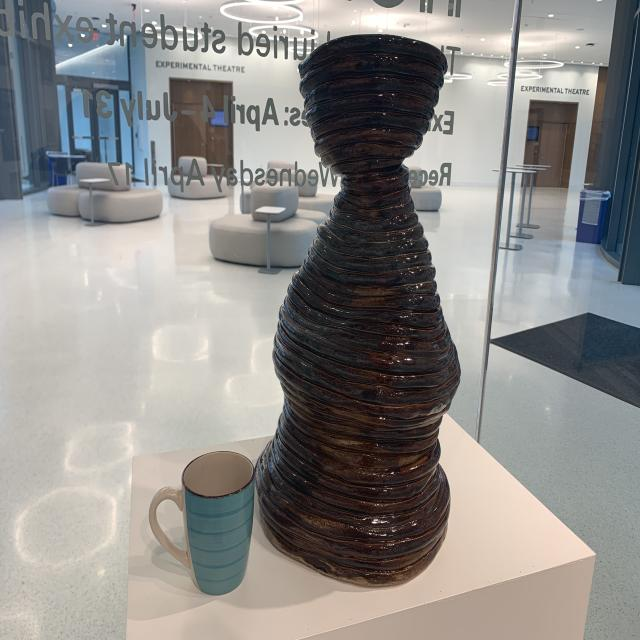Cup: (147, 449, 259, 601)
